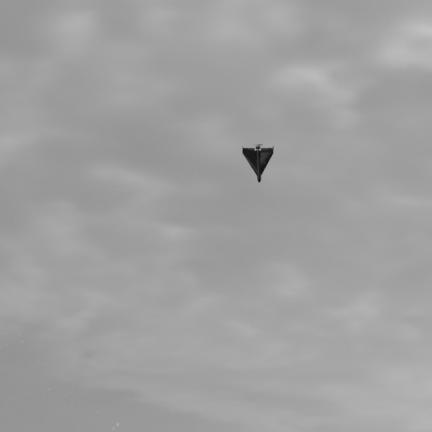Shahed: (242, 145, 273, 182)
